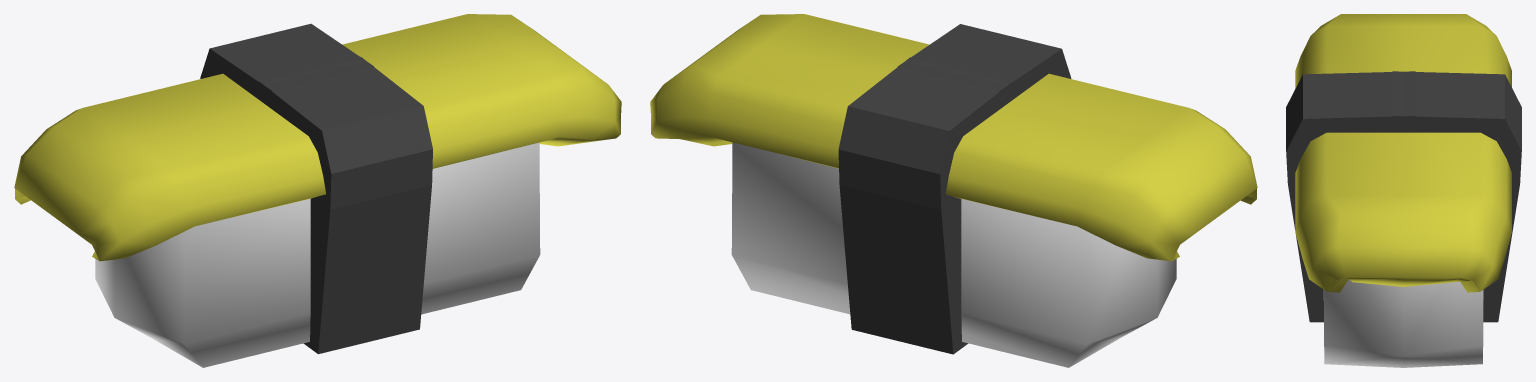
The model's file is sushi2.fbx.
The picture shows the model from 3 angles, left to right: view 1: azimuth 30°, elevation 25°; view 2: azimuth 150°, elevation 25°; view 3: azimuth 270°, elevation 25°; orthographic projection. The views are drawn at different scales.
Parts seen in each view (by area): view 1: Cube.001, Cube, 立方体; view 2: Cube.001, Cube, 立方体; view 3: Cube.001, 立方体, Cube.
Boxes of the visible parts, x1=… form: Cube.001: x1=14, y1=14, x2=621, y2=261; Cube: x1=95, y1=142, x2=540, y2=367; 立方体: x1=200, y1=23, x2=432, y2=354; Cube.001: x1=650, y1=14, x2=1257, y2=261; Cube: x1=731, y1=142, x2=1176, y2=367; 立方体: x1=838, y1=24, x2=1071, y2=354; Cube.001: x1=1295, y1=14, x2=1511, y2=292; 立方体: x1=1286, y1=71, x2=1521, y2=322; Cube: x1=1323, y1=279, x2=1483, y2=367.
Size of the model in its own units: 1.67 by 4 by 1.61.
